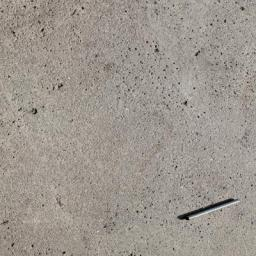FOD: (180, 193, 244, 225)
